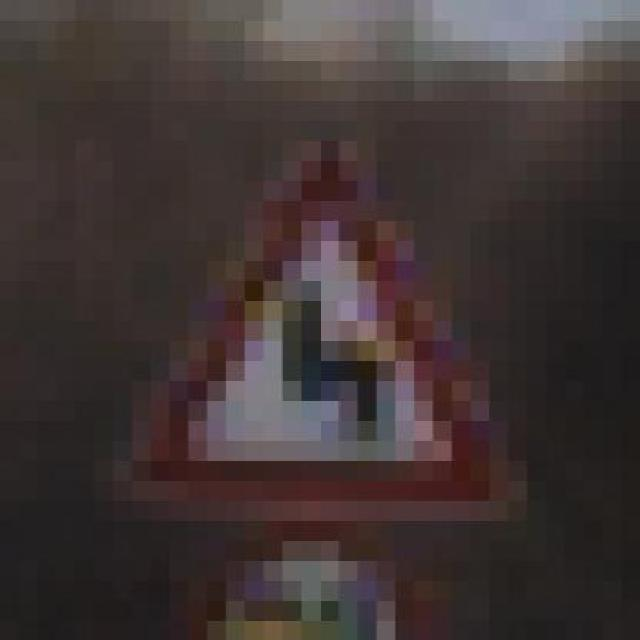Left Zig Zag Traffic: (76, 120, 546, 540)
